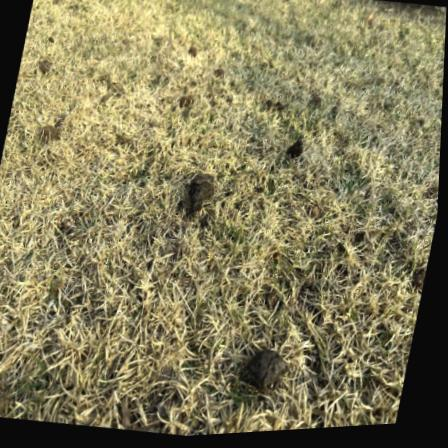dog-poop: (248, 346, 298, 398), (183, 167, 219, 219)
